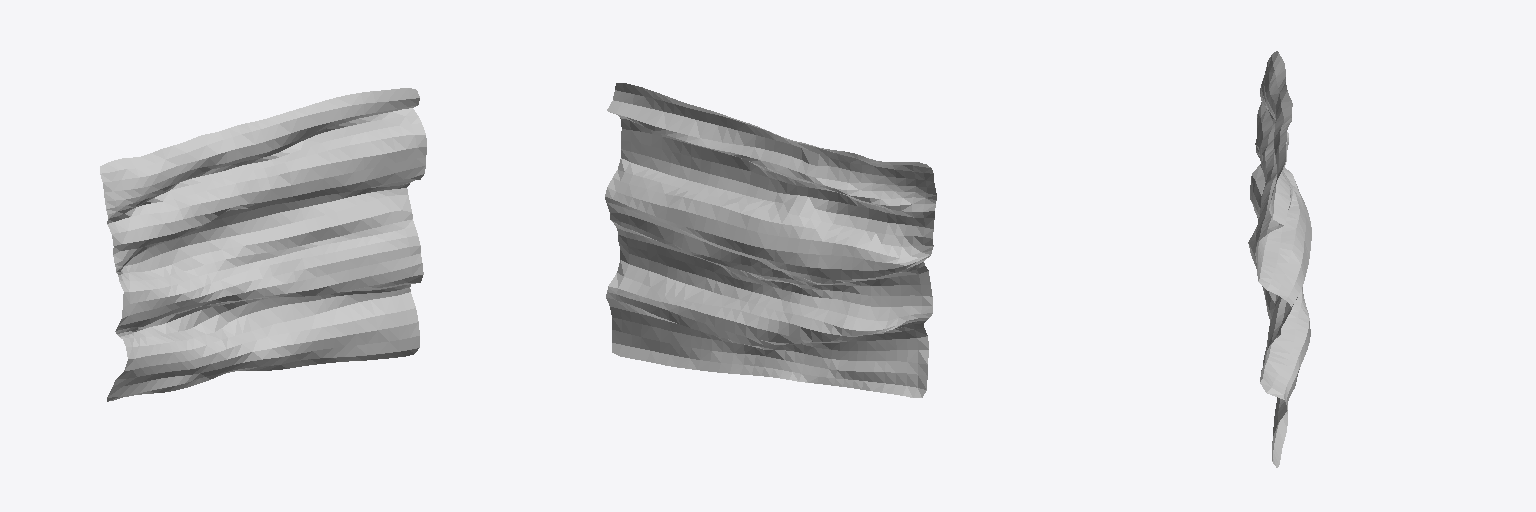
File: SM_Curtain_02_Lowpoly_01.OBJ
The picture shows the model from 3 angles: view 1: azimuth 30°, elevation 25°; view 2: azimuth 150°, elevation 25°; view 3: azimuth 270°, elevation 25°; orthographic projection.
Parts seen in each view (by area): view 1: Group20824; view 2: Group20824; view 3: Group20824.
Boxes of the visible parts, <box> form: Group20824: <box>100,88,426,401</box>; Group20824: <box>605,83,936,397</box>; Group20824: <box>1248,51,1311,467</box>.
Size of the model in its own units: 2.75 by 2.25 by 0.4749.